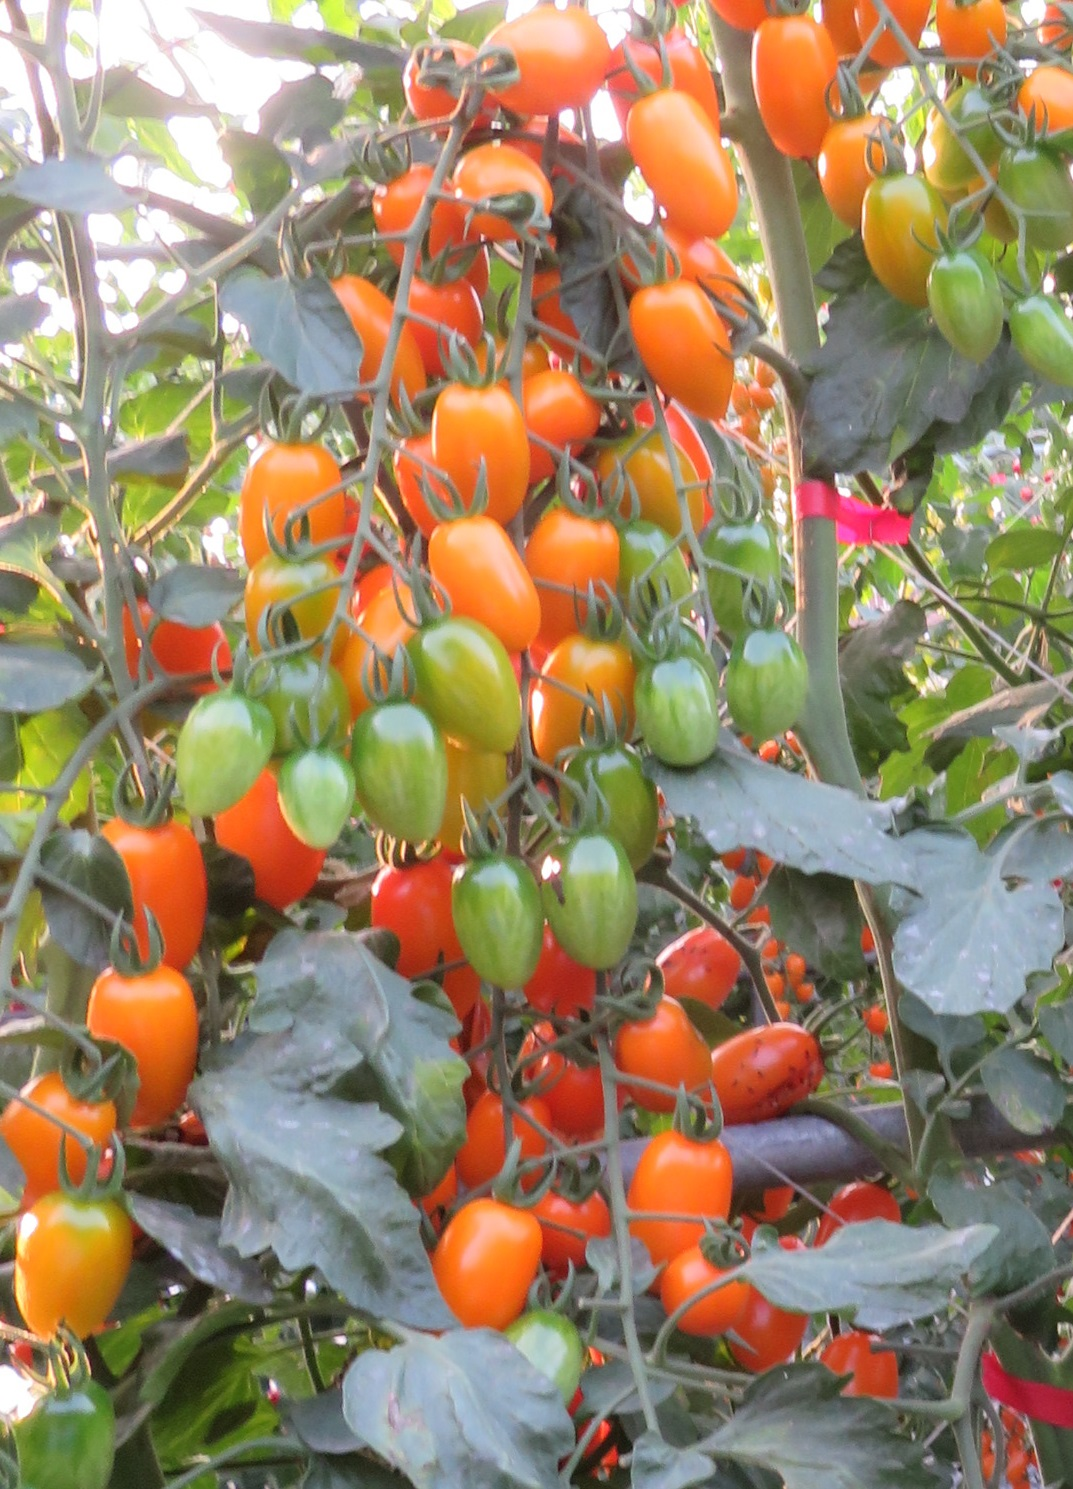green: (406, 620, 533, 757), (447, 857, 552, 997), (356, 710, 447, 850), (547, 835, 639, 970), (172, 695, 269, 820), (854, 172, 941, 303), (728, 624, 816, 735), (613, 520, 691, 644), (922, 84, 1011, 192), (254, 661, 350, 757), (636, 664, 724, 766), (924, 247, 1001, 363), (994, 149, 1073, 253), (1001, 295, 1073, 407), (706, 527, 792, 617), (276, 755, 355, 850), (510, 1307, 582, 1409)
orange: (624, 89, 749, 246), (82, 969, 201, 1129), (616, 264, 732, 425), (15, 1203, 136, 1357), (425, 510, 543, 649), (469, 3, 609, 120), (430, 1203, 553, 1329), (103, 818, 203, 964), (632, 1126, 733, 1272), (432, 373, 530, 523), (6, 1071, 123, 1193), (747, 18, 838, 172), (237, 440, 350, 555), (328, 273, 424, 406), (533, 504, 622, 630), (713, 1027, 824, 1126), (121, 598, 231, 697), (368, 861, 451, 980), (447, 149, 552, 243), (224, 813, 327, 906), (624, 1003, 716, 1109), (376, 161, 461, 269), (461, 1089, 547, 1195), (659, 1247, 752, 1338), (527, 366, 604, 471), (402, 267, 484, 361), (650, 926, 739, 1003), (816, 118, 906, 193), (813, 1181, 905, 1253), (531, 1190, 610, 1269), (853, 1, 934, 67), (1014, 61, 1073, 132), (733, 877, 757, 912), (785, 955, 807, 993), (765, 973, 784, 1000)
